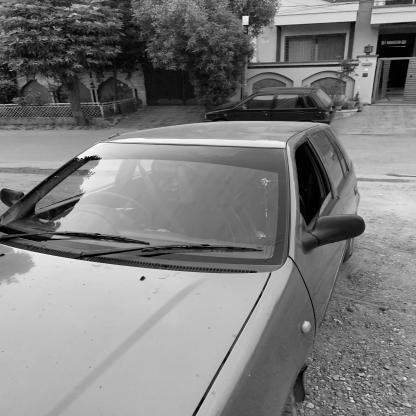seatbelt: (132, 160, 192, 226)
